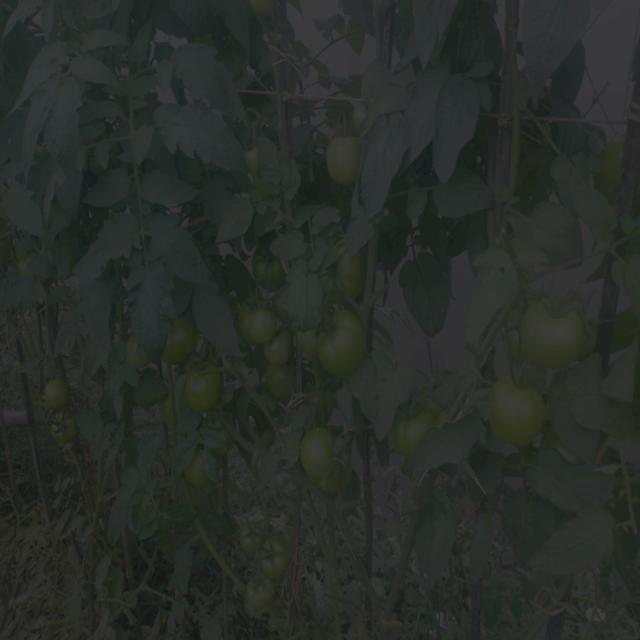tomato: (390, 369, 472, 456), (504, 296, 604, 367), (487, 378, 549, 442), (304, 426, 355, 502), (238, 307, 295, 365), (322, 242, 370, 304), (322, 314, 369, 373), (161, 316, 206, 365), (247, 245, 287, 294), (323, 140, 364, 187), (182, 370, 224, 414), (265, 369, 300, 407), (241, 578, 274, 618), (183, 450, 214, 488), (122, 335, 153, 372), (266, 537, 296, 575), (553, 437, 583, 472), (245, 1, 290, 22), (43, 380, 74, 410), (50, 417, 82, 446), (18, 252, 45, 284), (57, 236, 89, 263), (351, 100, 375, 135), (238, 520, 263, 553), (157, 394, 178, 432), (240, 145, 265, 176), (88, 152, 111, 184), (252, 177, 280, 202), (299, 325, 318, 361), (217, 427, 238, 459), (45, 202, 67, 229), (33, 142, 56, 162), (1, 239, 14, 272), (80, 132, 99, 148)
